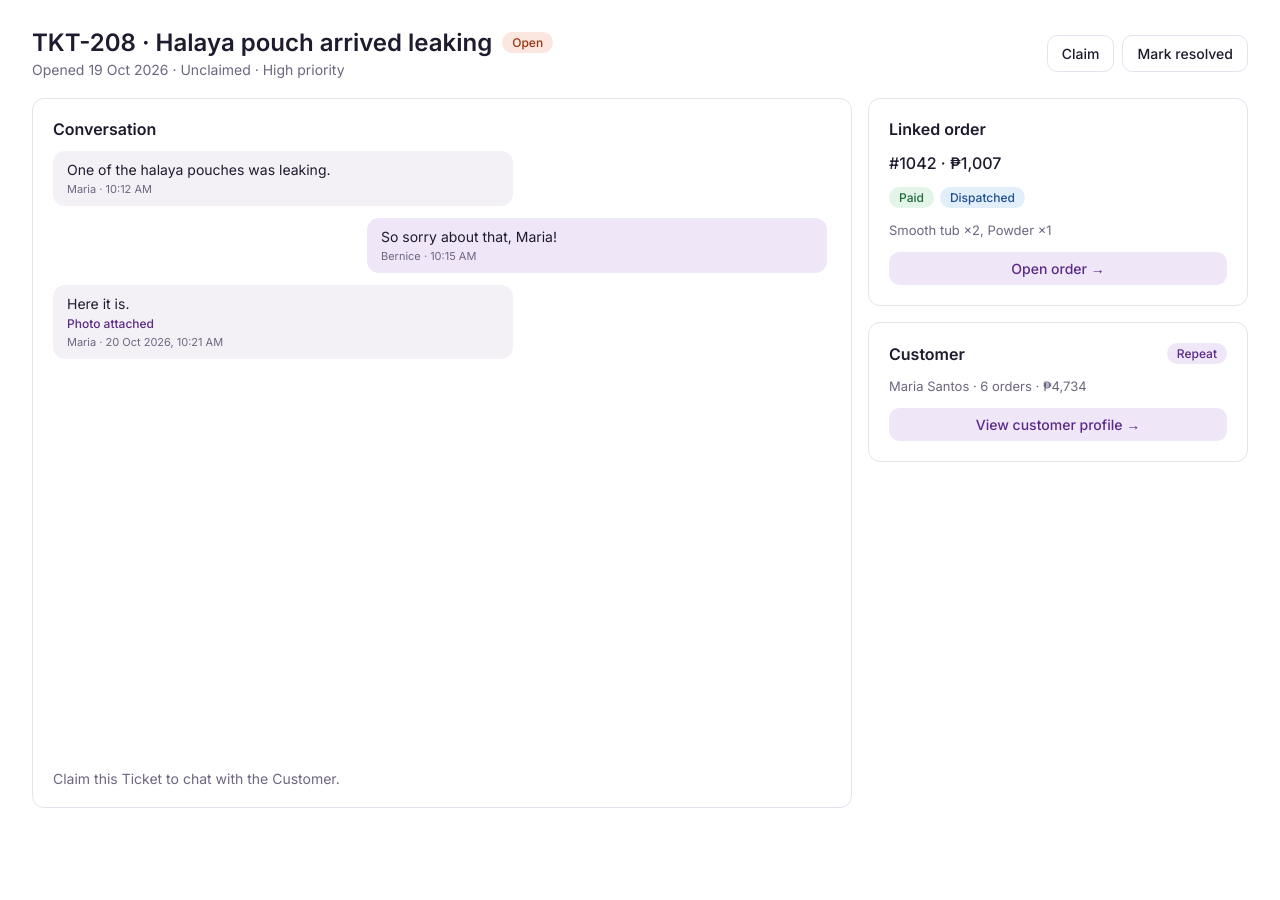
Test: Claim and Release show at once › makes the Staff member the Claimer before the server answers, and keeps it once confirmed
Click the button "Claim". click: (1081, 53)
box: [1047, 34, 1114, 72]
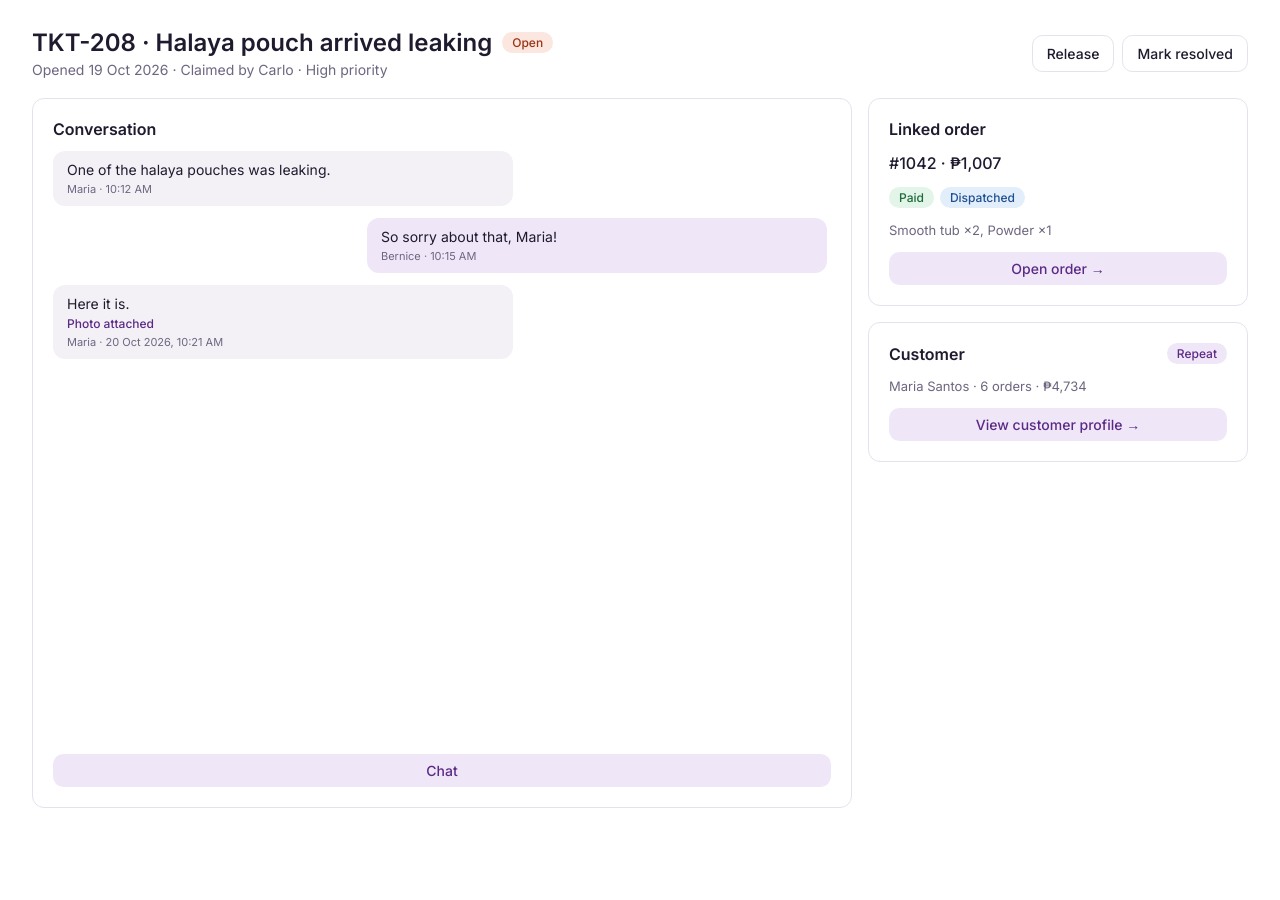
Check: the button "Release" is enabled, box [1032, 34, 1114, 72]
Check: the button "Release" is shown, box [1032, 34, 1114, 72]
Check: the text "Opened 19 Oct 2026 · Claimed by Carlo · High priority" is shown, box [32, 61, 388, 78]
